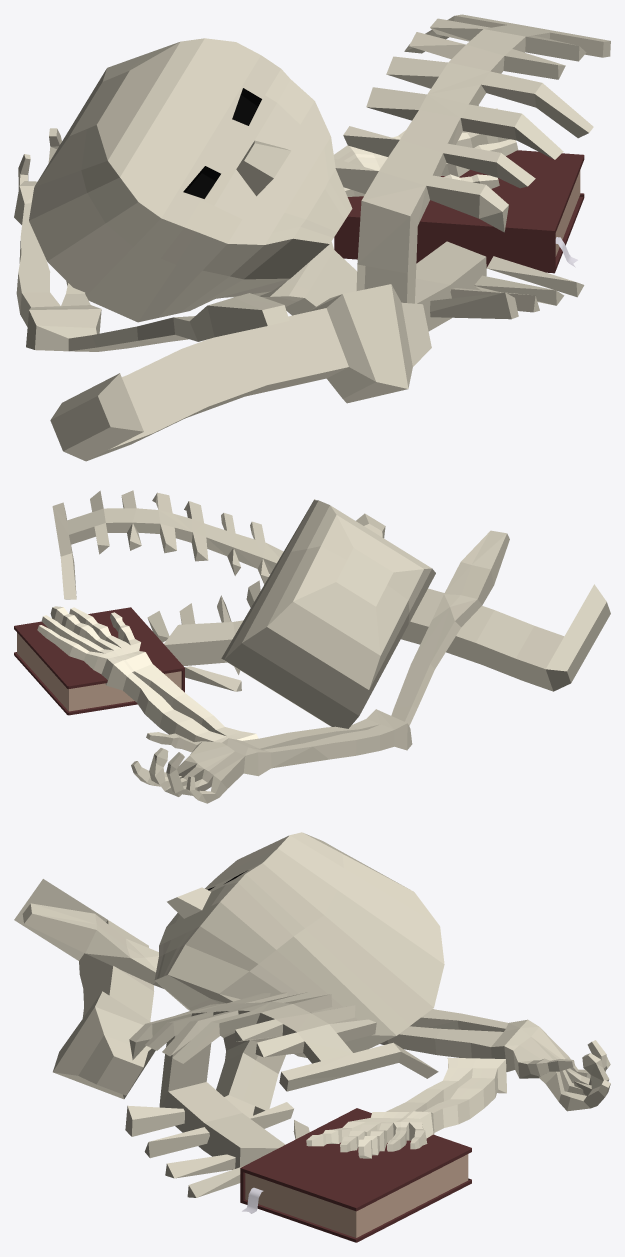
File: pile w book.fbx
The picture shows the model from 3 angles, top to bottom: view 1: azimuth 30°, elevation 25°; view 2: azimuth 150°, elevation 25°; view 3: azimuth 270°, elevation 25°; orthographic projection. The views are drawn at different scales.
Parts seen in each view (by area): view 1: head, Cube.002, leg_right, Cube, arm_right, arm_right.002; view 2: head, arm_right, Cube.002, leg_right, arm_right.002, Cube; view 3: head, Cube.002, Cube, arm_right, leg_right, arm_right.002.
Part boxes in pixels (x1,y1,x2,y2): head: [29, 38, 357, 322]; Cube.002: [334, 14, 610, 331]; leg_right: [50, 284, 431, 461]; Cube: [334, 150, 584, 273]; arm_right: [14, 128, 289, 351]; arm_right.002: [334, 105, 518, 196]; head: [221, 499, 435, 728]; arm_right: [131, 530, 509, 803]; Cube.002: [52, 490, 283, 691]; leg_right: [401, 584, 610, 691]; arm_right.002: [37, 606, 258, 742]; Cube: [14, 607, 184, 715]; head: [154, 832, 444, 1117]; Cube.002: [125, 991, 438, 1197]; Cube: [240, 1108, 471, 1242]; arm_right: [22, 903, 610, 1111]; leg_right: [14, 879, 155, 1099]; arm_right.002: [306, 1057, 506, 1158].
Bounding box in the file's own units: 132 × 56.78 × 123.
